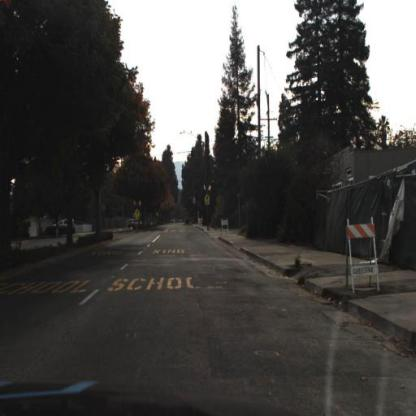car: (50, 217, 79, 235)
